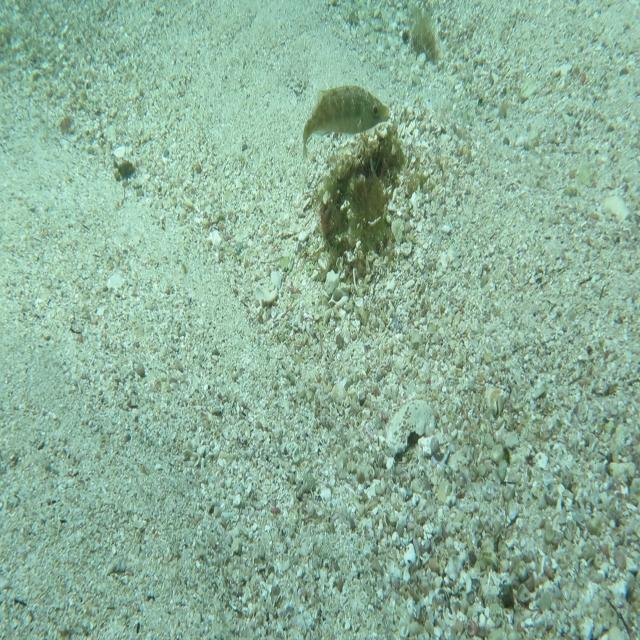AM: (298, 84, 392, 165)
core_nest: (371, 141, 402, 178)
nest: (317, 118, 416, 262)
nest_material: (388, 110, 396, 121)
vegetation: (411, 11, 443, 63), (117, 156, 136, 182)
